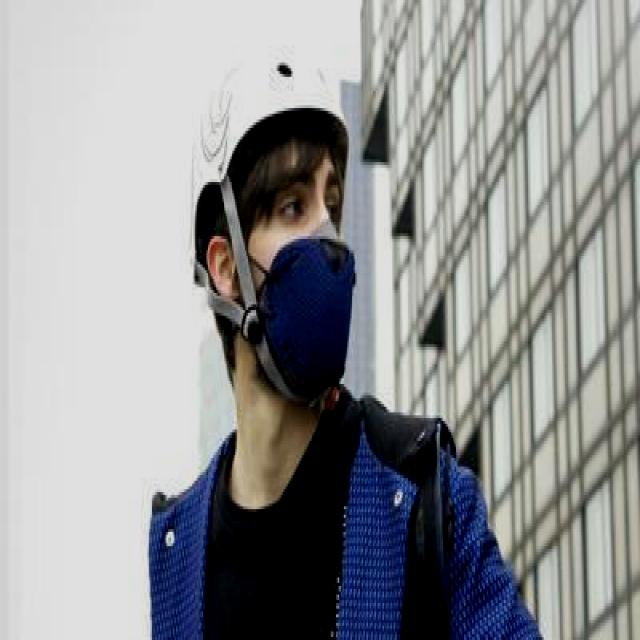face_mask: (246, 162, 357, 401)
head_helmet: (192, 28, 355, 182)
person: (136, 20, 494, 640)
